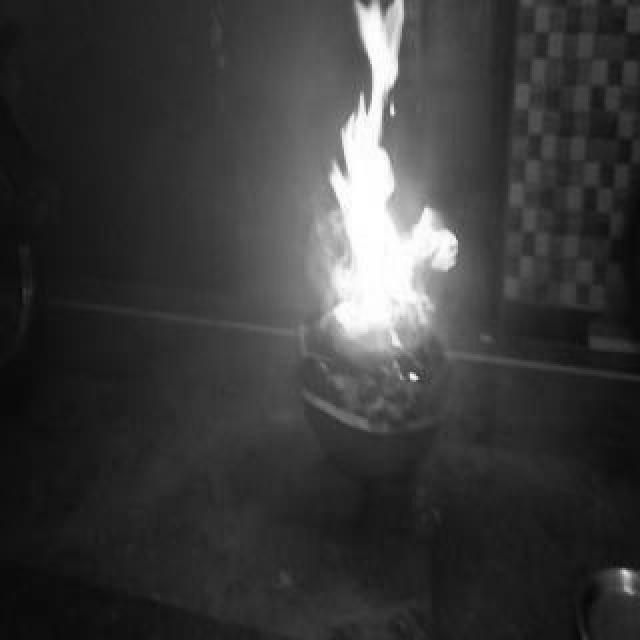Fire: (310, 4, 466, 356)
